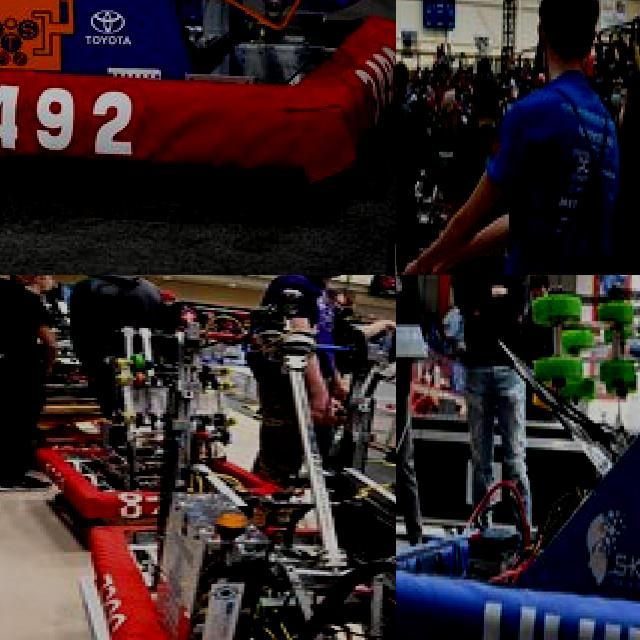FRC-Robots: (396, 275, 640, 640), (0, 0, 396, 208), (8, 312, 299, 512), (76, 511, 396, 640), (396, 0, 450, 275)
